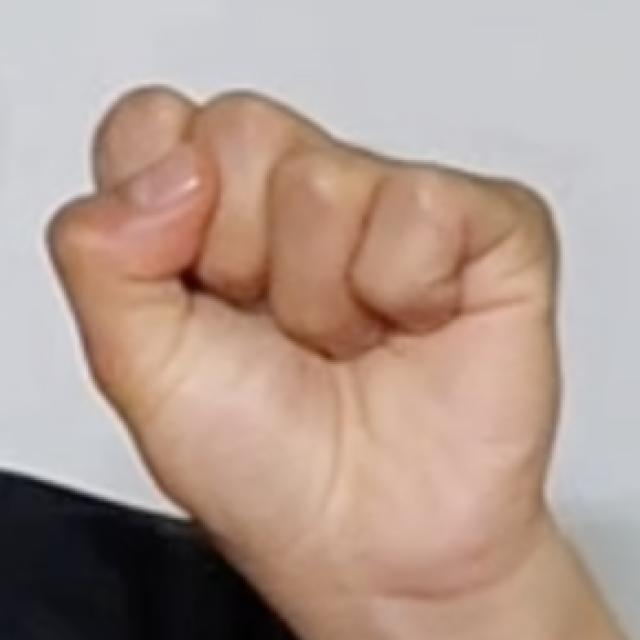S: (41, 74, 568, 595)
